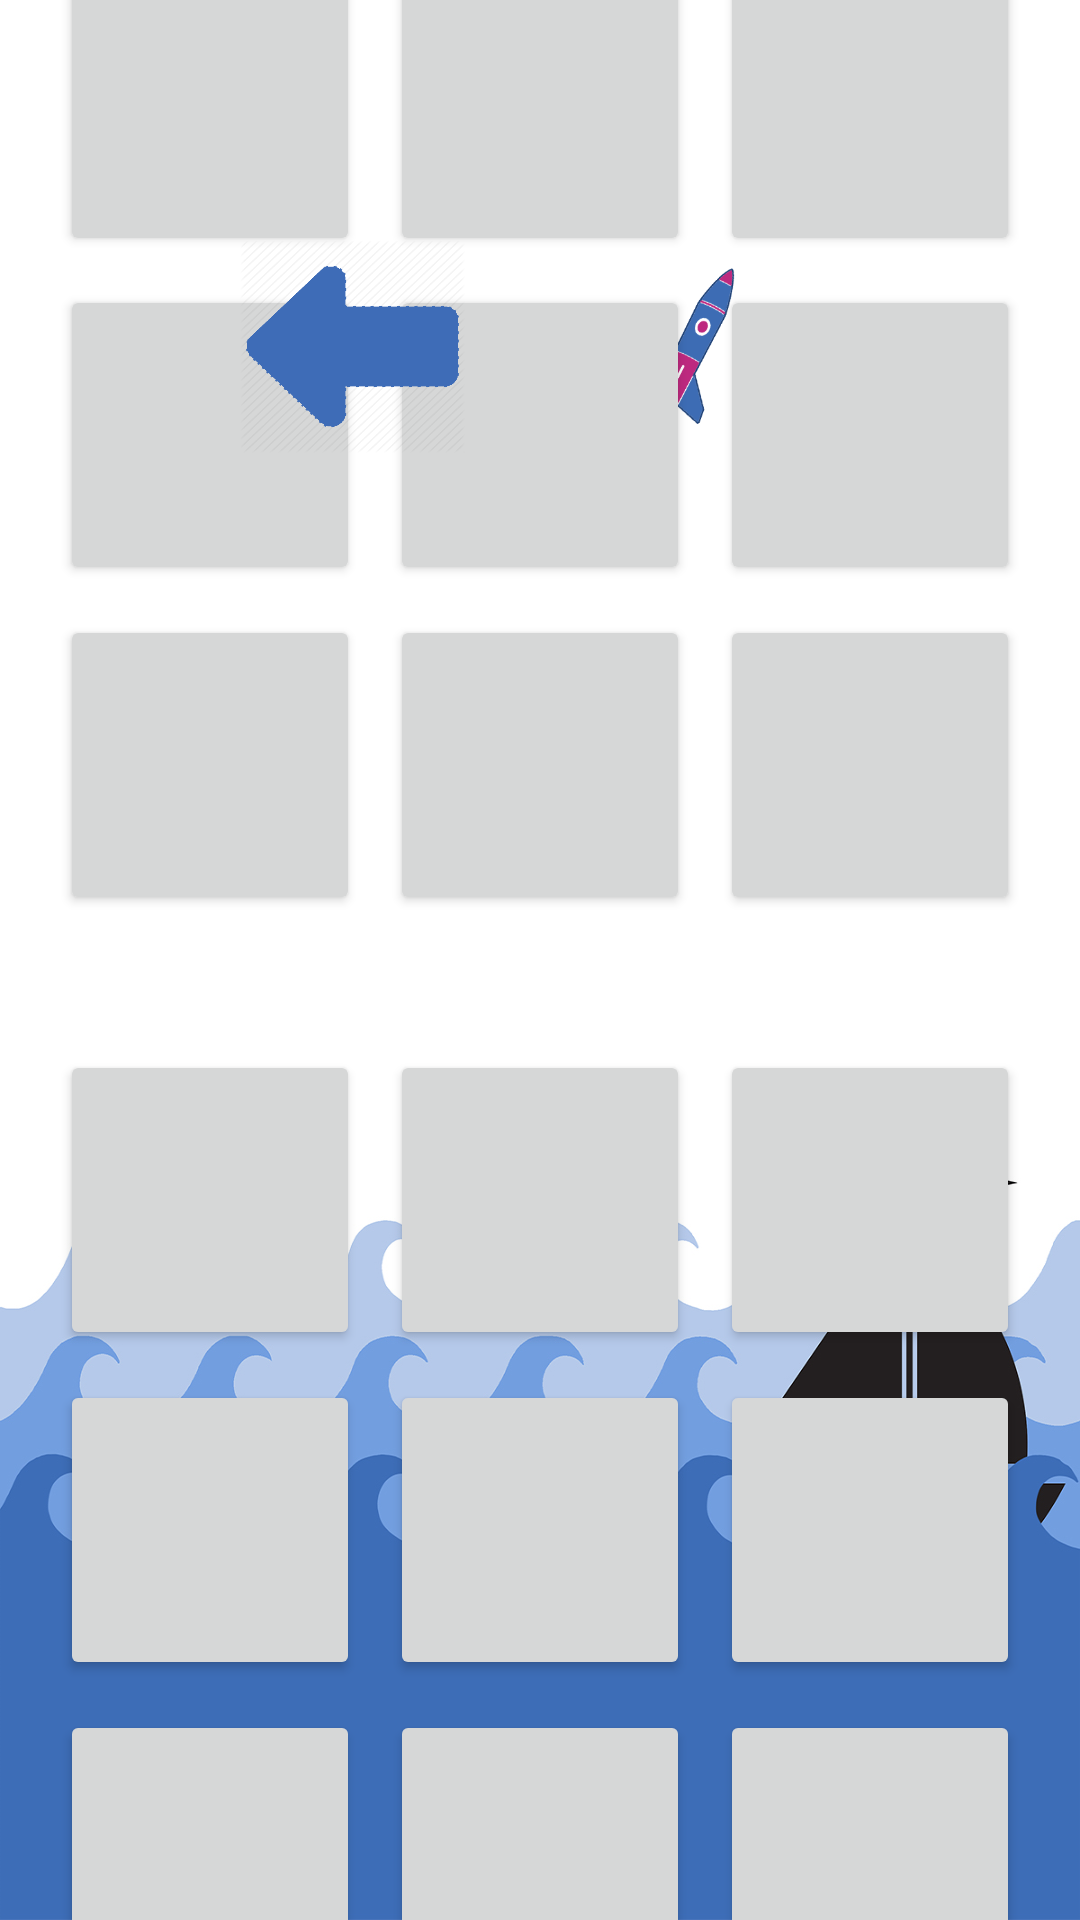

Icon click points for this 1080 × 1920 phone screenshot, format point (x, y):
left arrow: point (352, 346)
